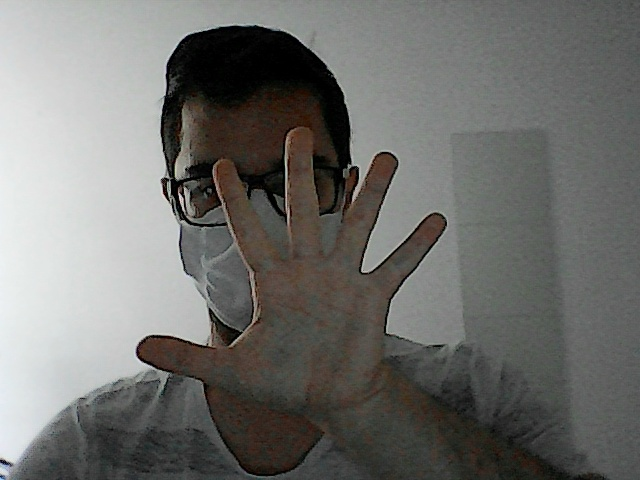jump: (125, 122, 454, 421)
